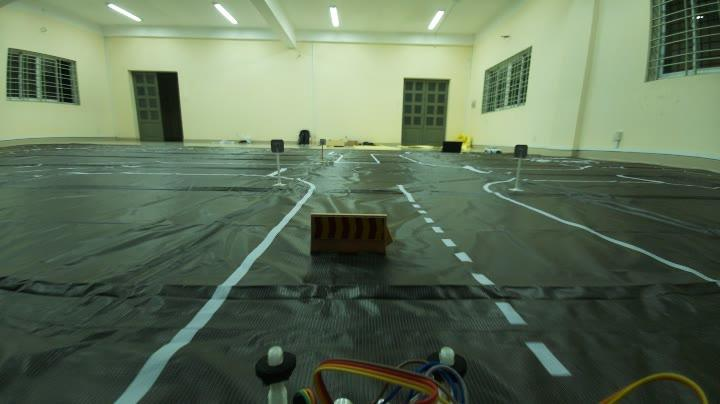roadblock: (308, 206, 394, 266)
